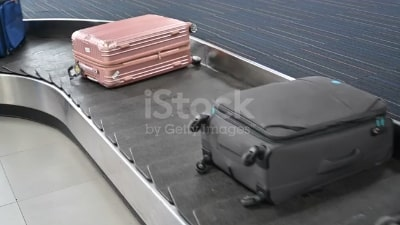baggage: (184, 74, 396, 211), (63, 12, 207, 90)
